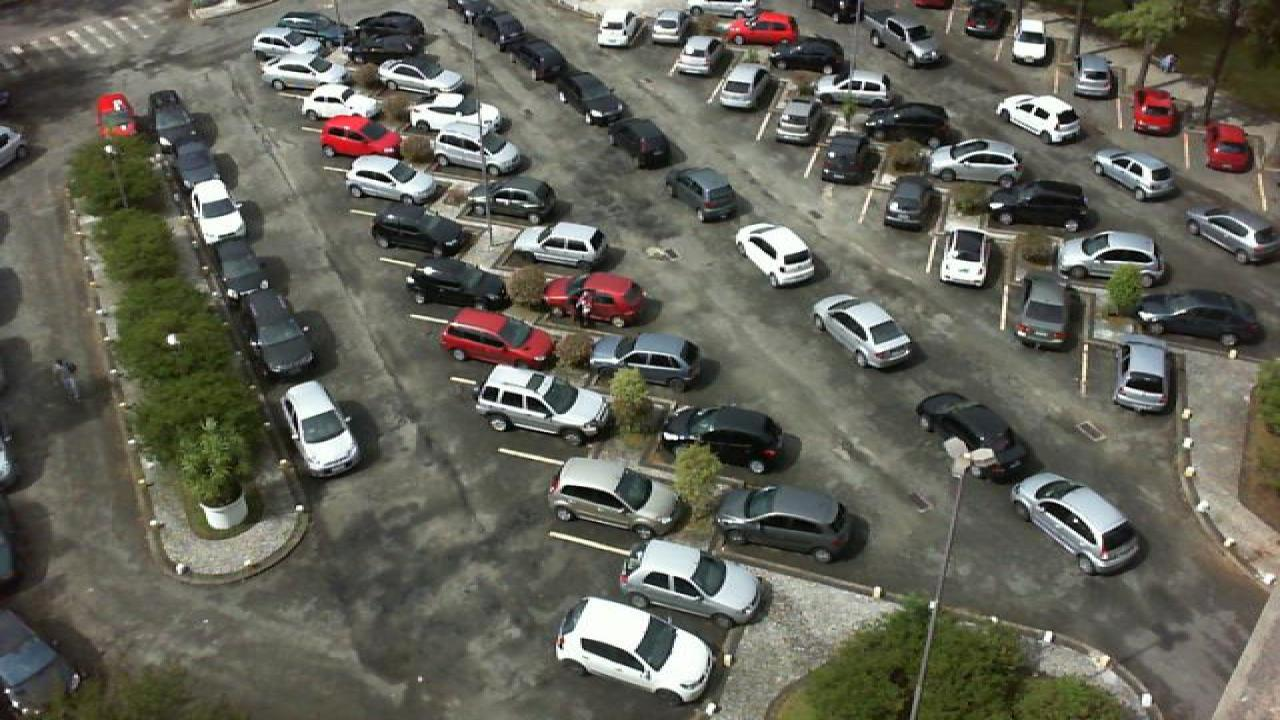Car: (552, 594, 720, 706), (1006, 469, 1148, 577), (616, 538, 770, 628), (718, 484, 870, 566), (910, 390, 1034, 486), (472, 364, 614, 446), (546, 456, 684, 538), (662, 405, 786, 477), (278, 379, 362, 482), (810, 294, 918, 370), (1132, 288, 1266, 348), (438, 307, 558, 369), (586, 332, 706, 391), (1054, 229, 1172, 287), (1010, 271, 1092, 352), (538, 270, 648, 330), (402, 256, 516, 310), (732, 222, 818, 289), (984, 178, 1094, 230), (1184, 206, 1280, 264), (342, 154, 442, 206), (432, 125, 530, 178), (862, 11, 950, 69), (510, 220, 608, 270), (464, 177, 562, 227), (370, 208, 466, 259), (1110, 343, 1176, 416), (994, 92, 1086, 144), (664, 164, 742, 225), (924, 138, 1024, 184), (1096, 150, 1182, 202), (932, 224, 998, 289), (318, 112, 404, 161), (862, 101, 958, 143), (192, 176, 248, 246), (604, 116, 674, 172), (296, 78, 384, 122), (226, 264, 288, 326), (406, 99, 502, 139), (374, 56, 470, 96), (254, 322, 318, 380), (884, 175, 946, 233), (258, 46, 342, 88), (558, 70, 628, 120), (814, 72, 902, 110), (350, 33, 430, 74), (818, 135, 880, 187), (514, 32, 572, 82), (770, 36, 846, 73), (726, 10, 802, 47), (168, 129, 222, 181), (1204, 121, 1256, 174), (148, 88, 202, 139), (250, 27, 326, 63), (94, 92, 144, 144), (1130, 87, 1182, 137), (1006, 16, 1058, 66), (774, 98, 830, 144), (670, 32, 728, 76), (718, 66, 772, 112), (1070, 53, 1120, 101), (352, 10, 424, 43), (478, 4, 534, 44), (278, 11, 350, 42), (592, 9, 644, 51), (960, 0, 1012, 40), (644, 8, 688, 45)
